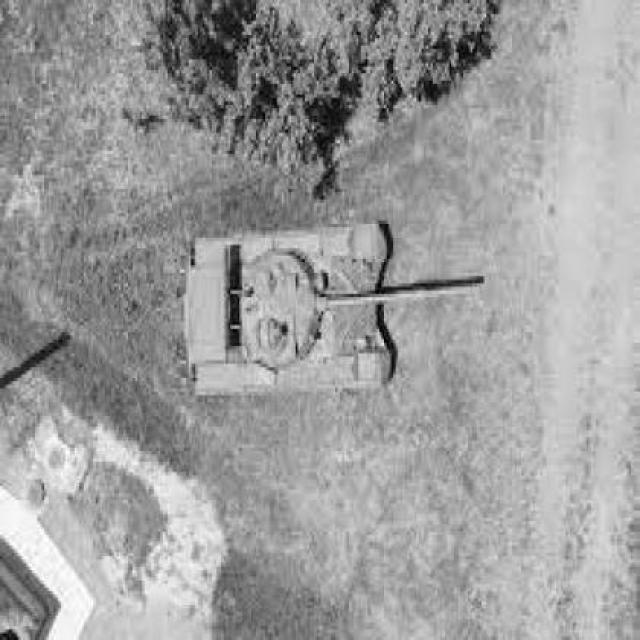tank: (188, 226, 486, 392)
